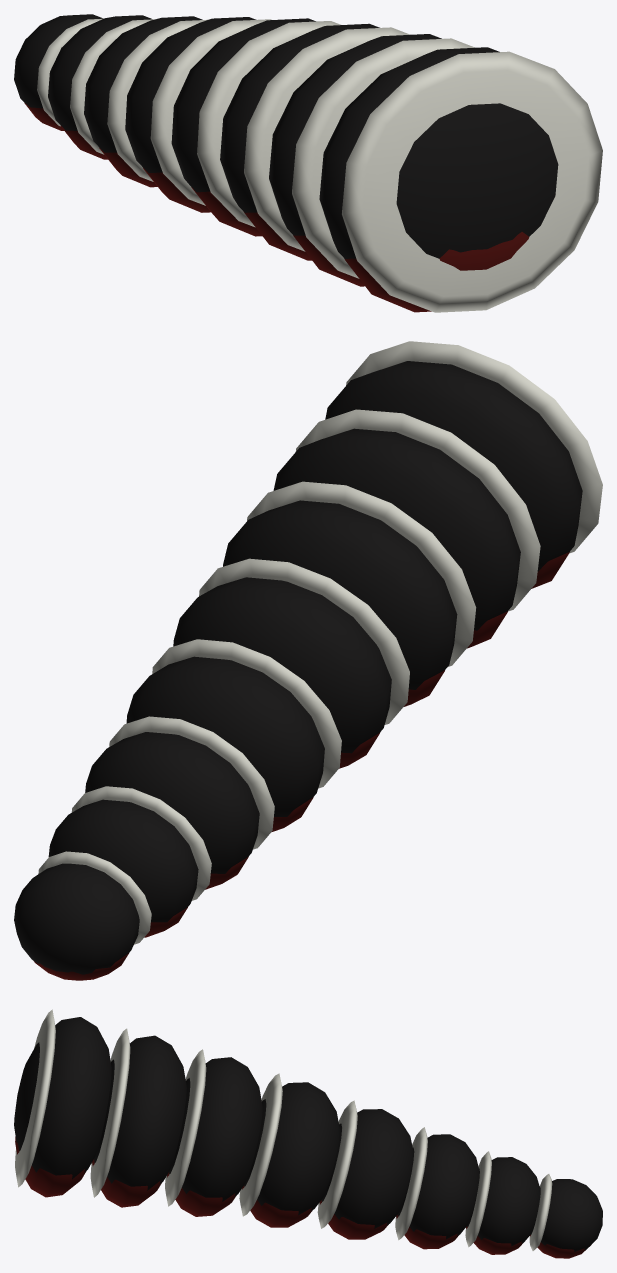
Rendered from mosquito_abdomen.obj.
3 views of the same model, one above another, from view 1: azimuth 30°, elevation 25°; view 2: azimuth 150°, elevation 25°; view 3: azimuth 270°, elevation 25° (orthographic). The views are drawn at different scales.
Visible parts, largest first — view 1: part2, part0, part5, part8, part3, part11, part6, part9, part12, part14, part15, part17 (+10 smaller); view 2: part3, part6, part0, part9, part12, part15, part21, part18, part2, part5, part8, part11 (+4 smaller); view 3: part0, part3, part6, part9, part12, part15, part18, part21, part2, part5, part8, part11 (+12 smaller).
Part boxes in pixels (x1,y1,x2,y2): part2: [342, 51, 602, 312]; part0: [319, 47, 558, 258]; part5: [292, 38, 474, 278]; part8: [244, 27, 409, 251]; part3: [269, 34, 441, 235]; part11: [197, 21, 340, 227]; part6: [220, 23, 379, 212]; part9: [171, 18, 315, 192]; part12: [125, 17, 256, 172]; part14: [150, 19, 271, 205]; part15: [84, 16, 202, 152]; part17: [107, 19, 207, 181]; part3: [273, 428, 520, 630]; part6: [223, 500, 457, 689]; part0: [325, 361, 582, 571]; part9: [173, 577, 391, 753]; part12: [126, 656, 324, 816]; part15: [85, 732, 259, 873]; part21: [14, 863, 139, 974]; part18: [48, 799, 198, 922]; part2: [346, 341, 602, 553]; part5: [295, 409, 540, 611]; part8: [247, 481, 476, 666]; part11: [199, 558, 409, 724]; part0: [14, 1017, 111, 1179]; part3: [94, 1035, 186, 1190]; part6: [169, 1057, 262, 1201]; part9: [244, 1082, 339, 1215]; part12: [321, 1109, 413, 1228]; part15: [398, 1134, 479, 1239]; part18: [467, 1157, 540, 1246]; part21: [531, 1179, 602, 1251]; part2: [15, 1009, 55, 1187]; part5: [90, 1028, 130, 1197]; part8: [165, 1049, 206, 1206]; part11: [239, 1073, 282, 1216].
Size of the model in its own units: 0.5035 by 0.6468 by 1.47.
